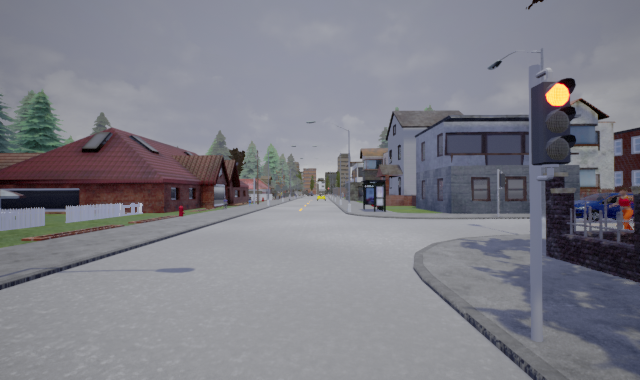pedestrian: (608, 184, 639, 239)
vehicle: (550, 192, 639, 223)
